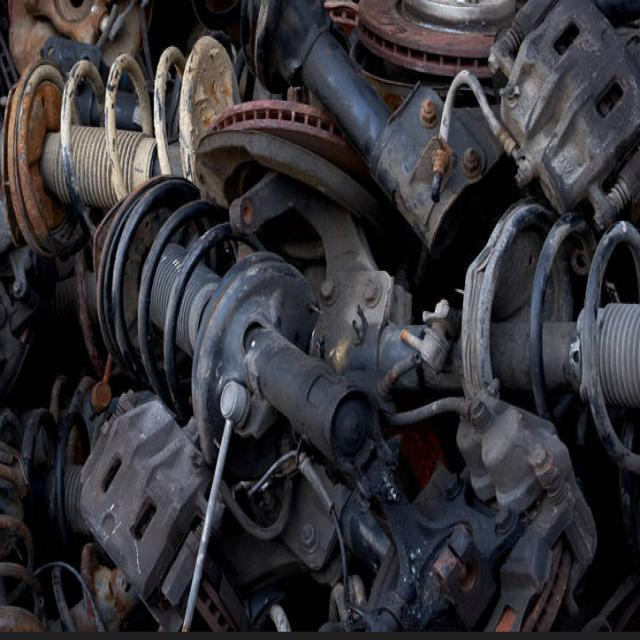shock absorber: (95, 173, 379, 479), (7, 36, 245, 259)
